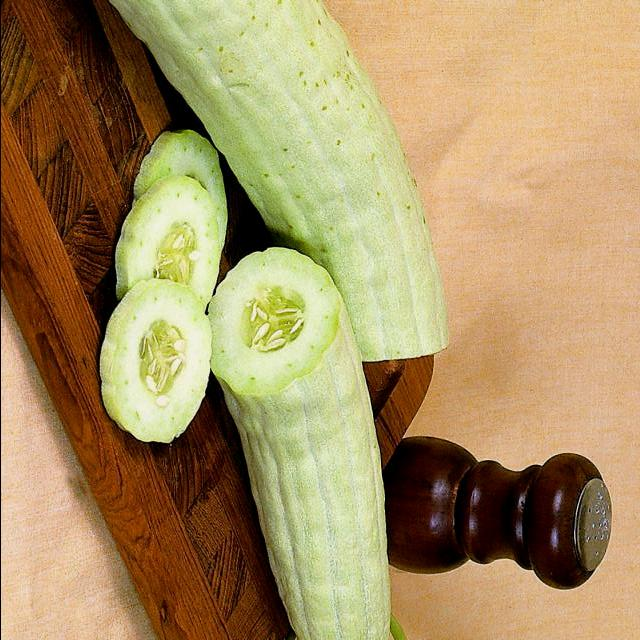cucumber: (111, 1, 455, 361), (210, 249, 391, 640)
